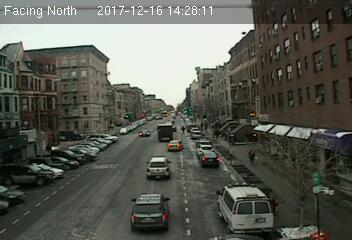car: (129, 191, 169, 229), (146, 156, 169, 178), (200, 152, 219, 168), (168, 139, 182, 149)
pedestrian: (247, 147, 258, 167)
police: (216, 182, 273, 231)
ups: (157, 123, 174, 140)
